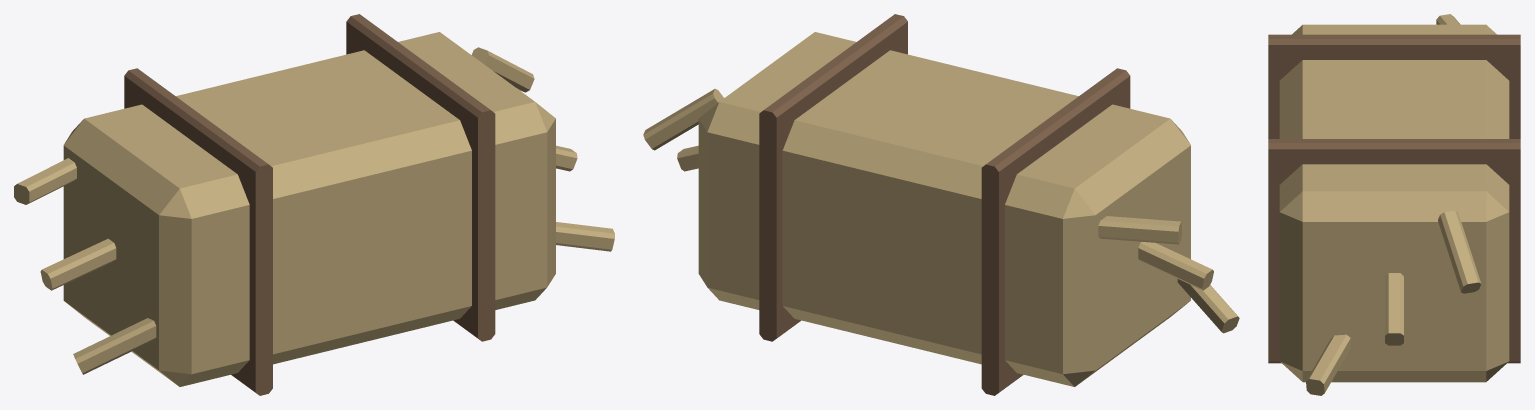
Rendered from hay_bale.glb.
The picture shows the model from 3 angles, left to right: view 1: azimuth 30°, elevation 25°; view 2: azimuth 150°, elevation 25°; view 3: azimuth 270°, elevation 25°; orthographic projection. The views are drawn at different scales.
Parts seen in each view (by area): view 1: hay_bale; view 2: hay_bale; view 3: hay_bale.
Boxes of the visible parts, x1=… form: hay_bale: x1=14, y1=14, x2=614, y2=395; hay_bale: x1=643, y1=14, x2=1239, y2=395; hay_bale: x1=1268, y1=14, x2=1520, y2=395.
Size of the model in its own units: 1.54 by 0.635 by 0.66.
